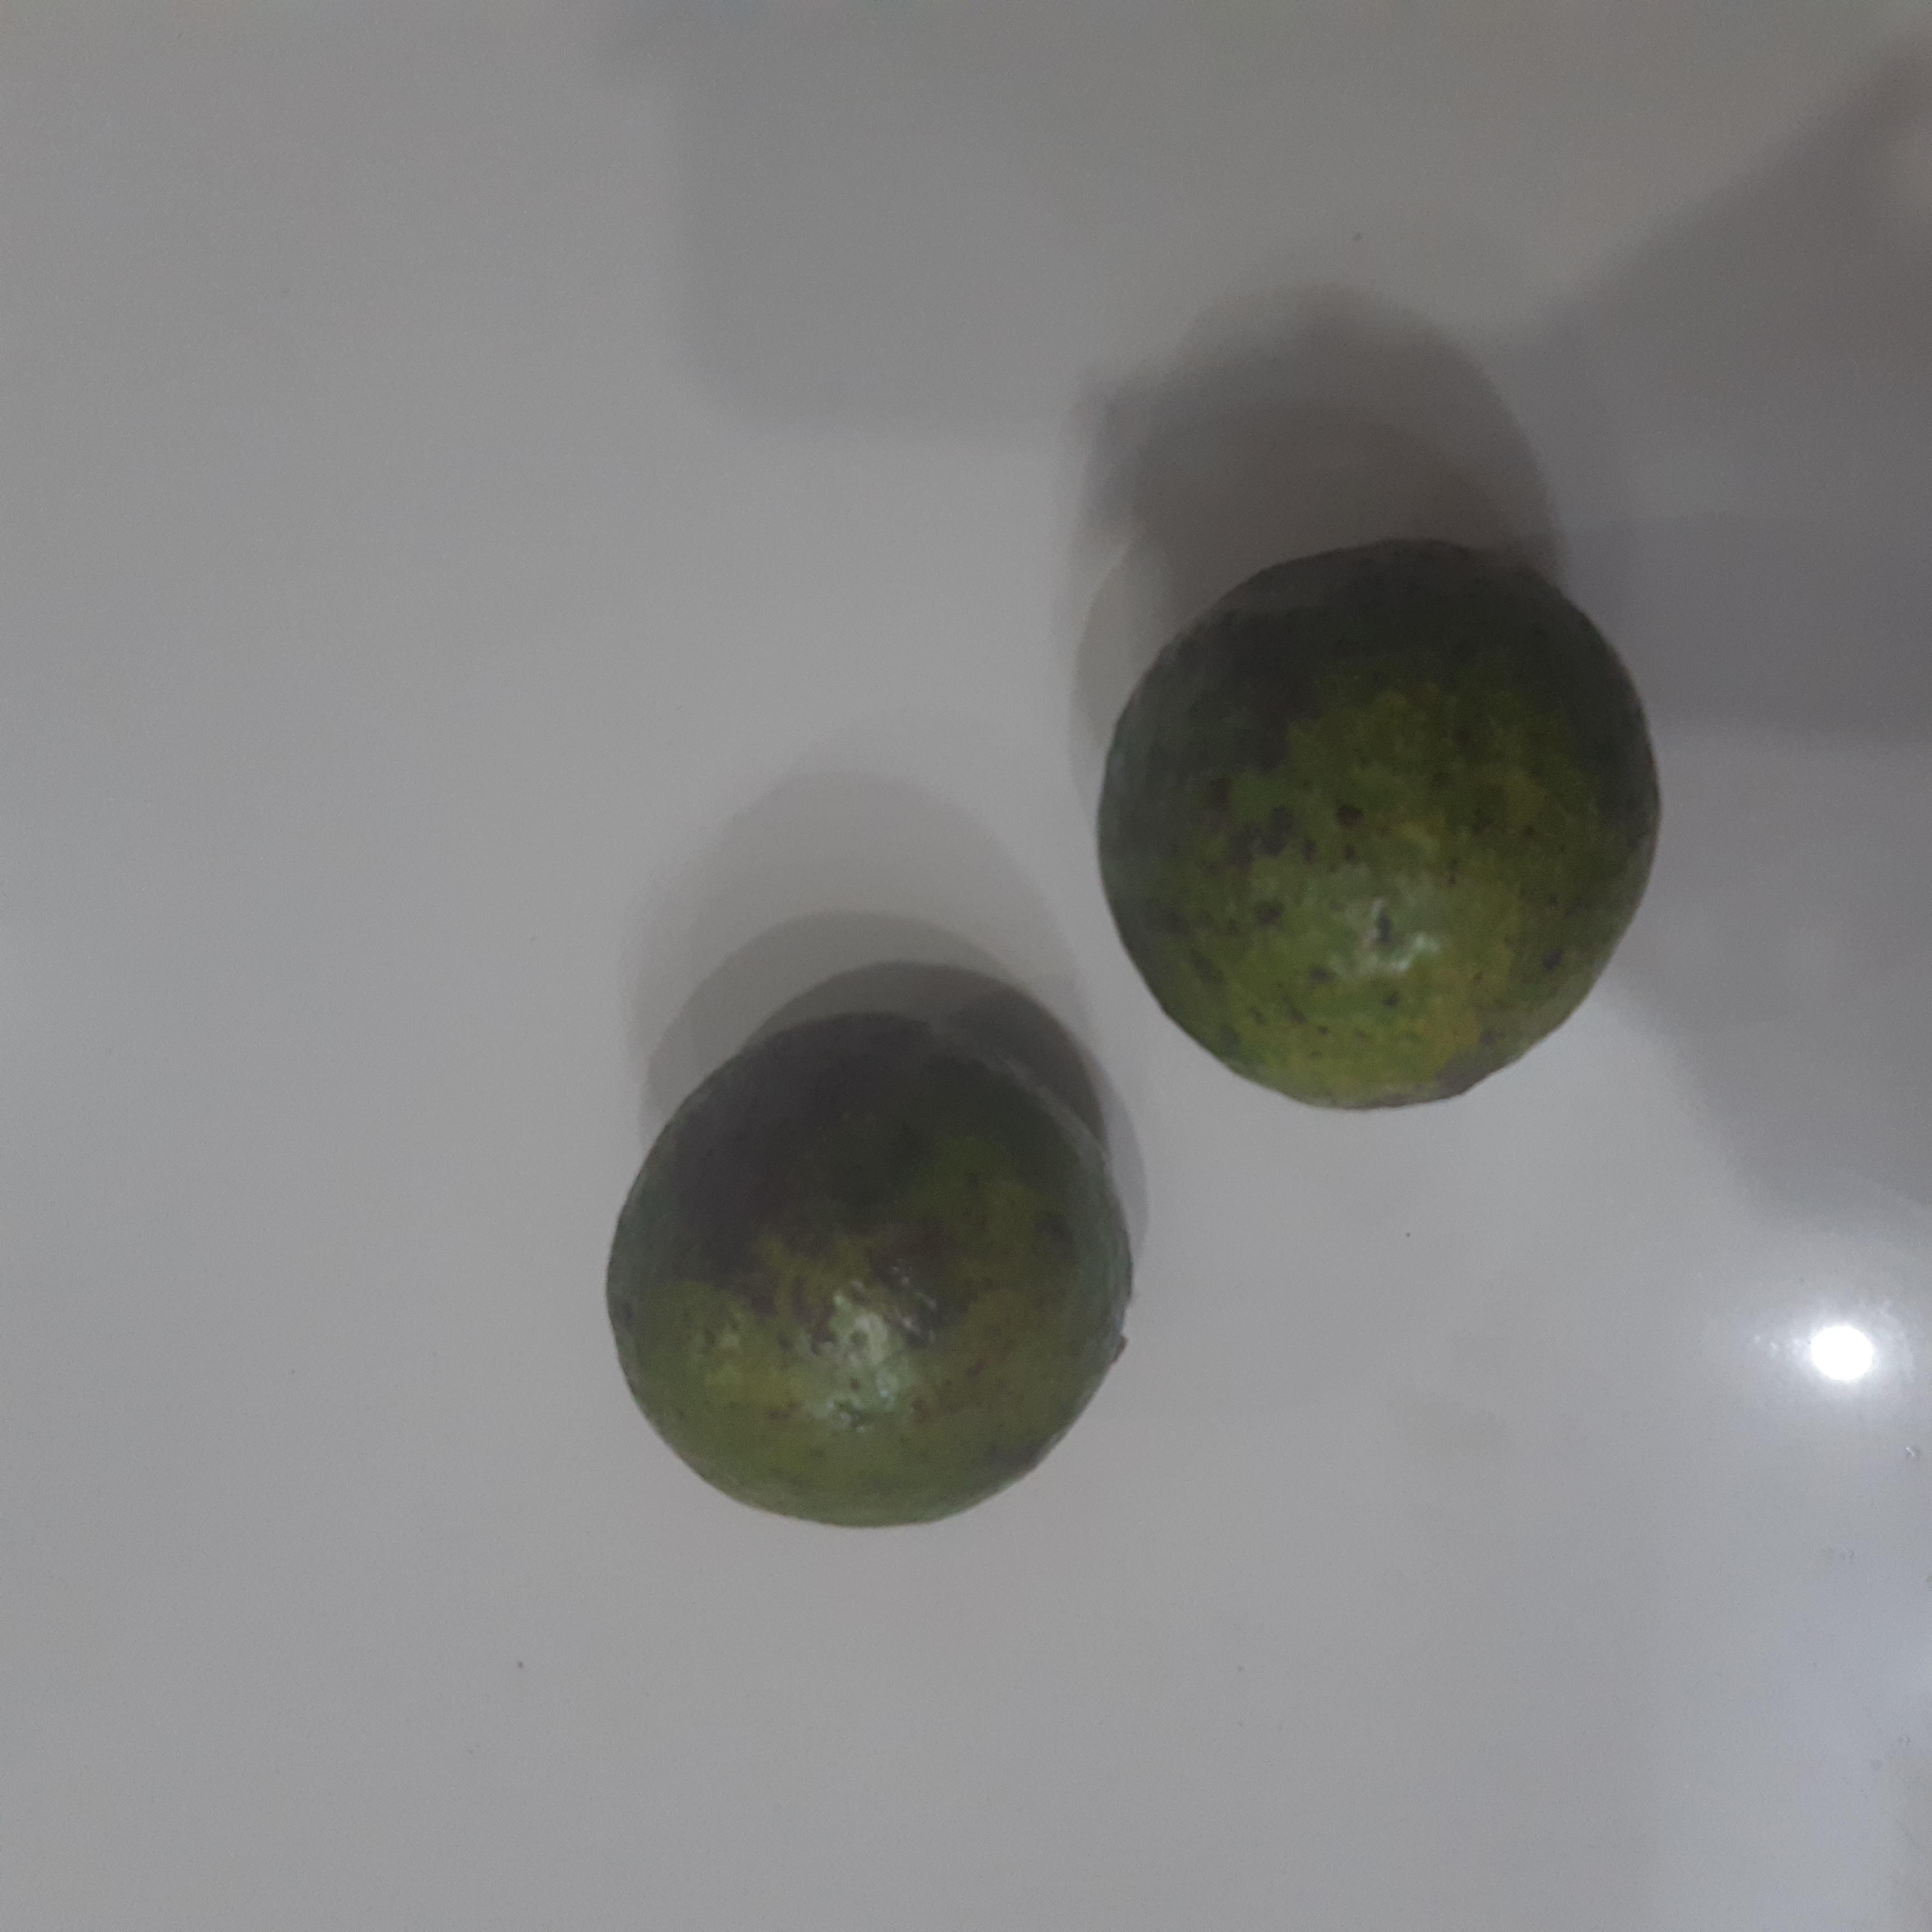Bo: (1093, 536, 1660, 1107), (599, 1010, 1136, 1533)
